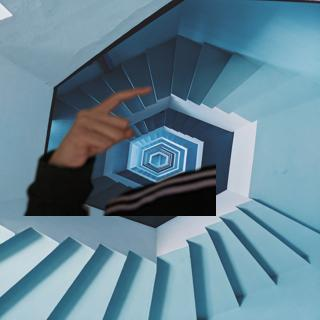WHY: (49, 79, 158, 167)
